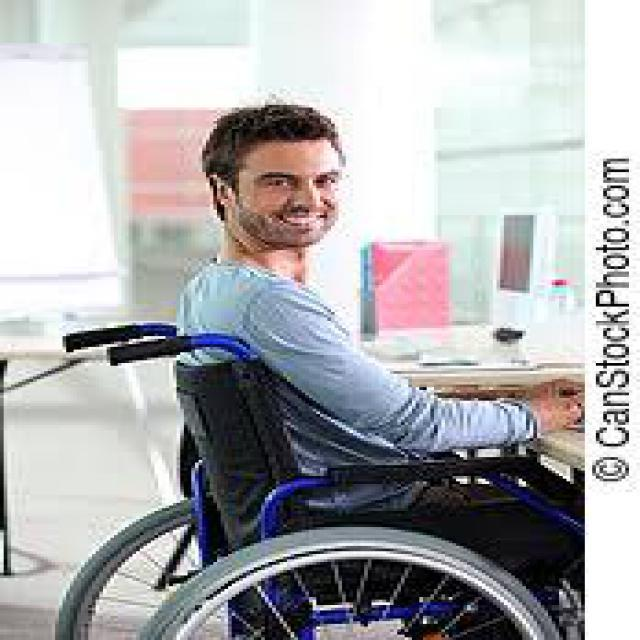wheelchairs: (40, 301, 578, 637)
